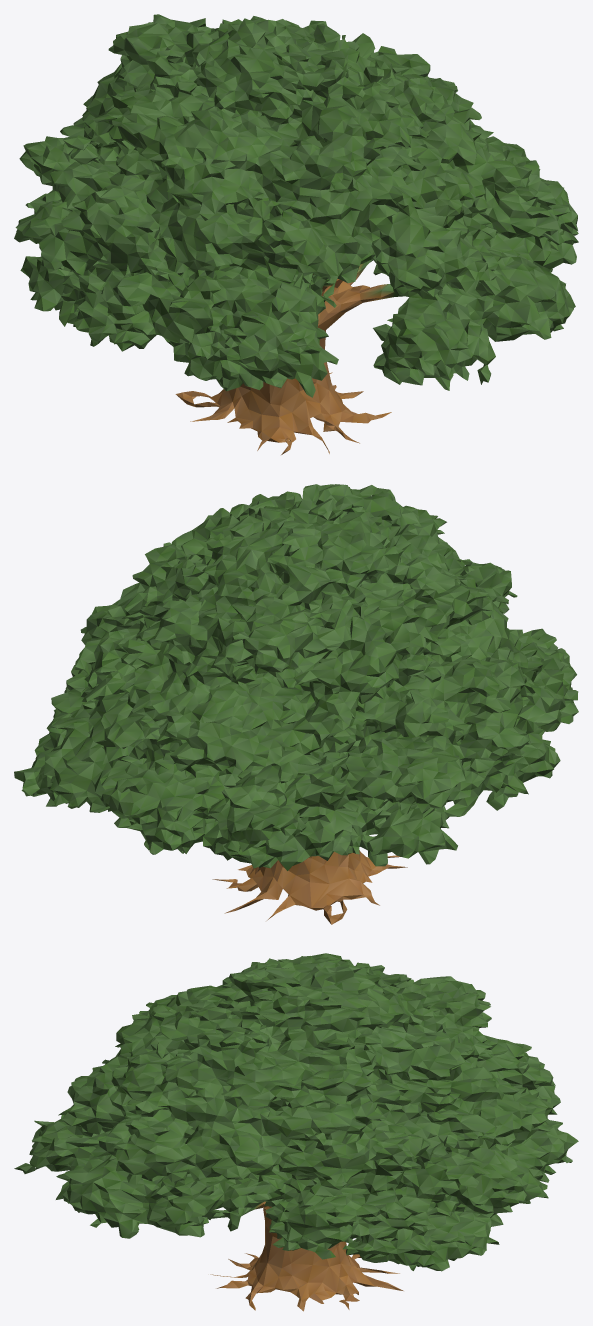
File: mahogany_tree.glb
3 views of the same model, one above another, from view 1: azimuth 30°, elevation 25°; view 2: azimuth 150°, elevation 25°; view 3: azimuth 270°, elevation 25° (orthographic). The views are drawn at different scales.
Visible parts, largest first — view 1: world; view 2: world; view 3: world.
Boxes of the visible parts, bbox=[...] form: world: bbox=[14, 14, 578, 454]; world: bbox=[14, 484, 578, 924]; world: bbox=[14, 953, 578, 1311].
Size of the model in its own units: 6.4 by 5 by 8.17.
